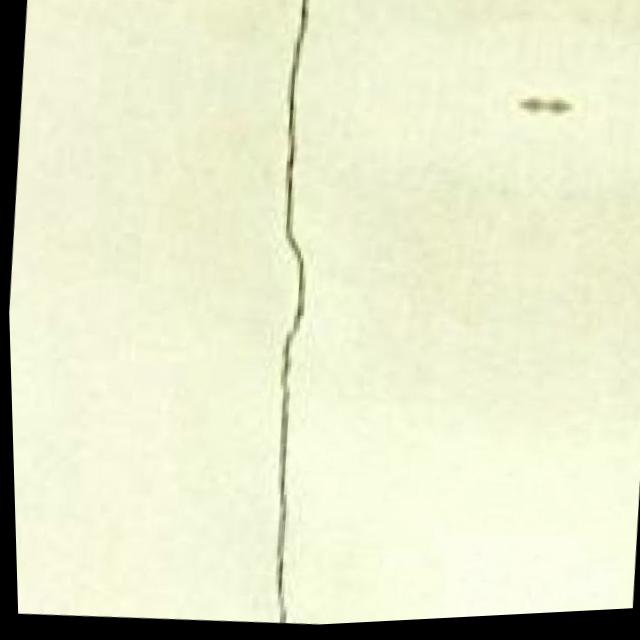Crack: (170, 0, 404, 633)
